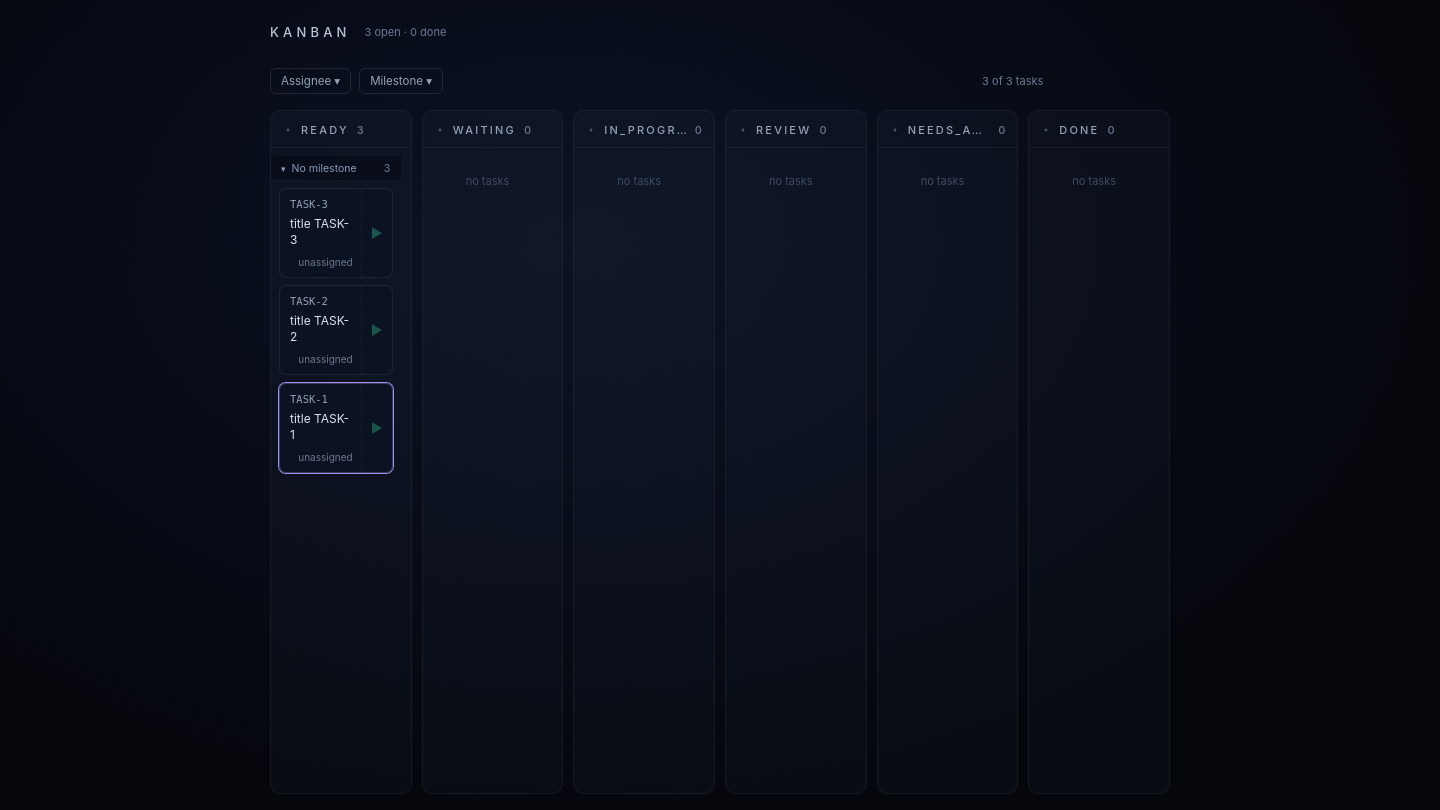
Test case: opening a task's modal › draws the held record's notes at once when it is past the fresh window, then reads it again
Click the button "TASK-1 title TASK-1 unassigned ▶".
click(336, 428)  # box [279,383,393,473]
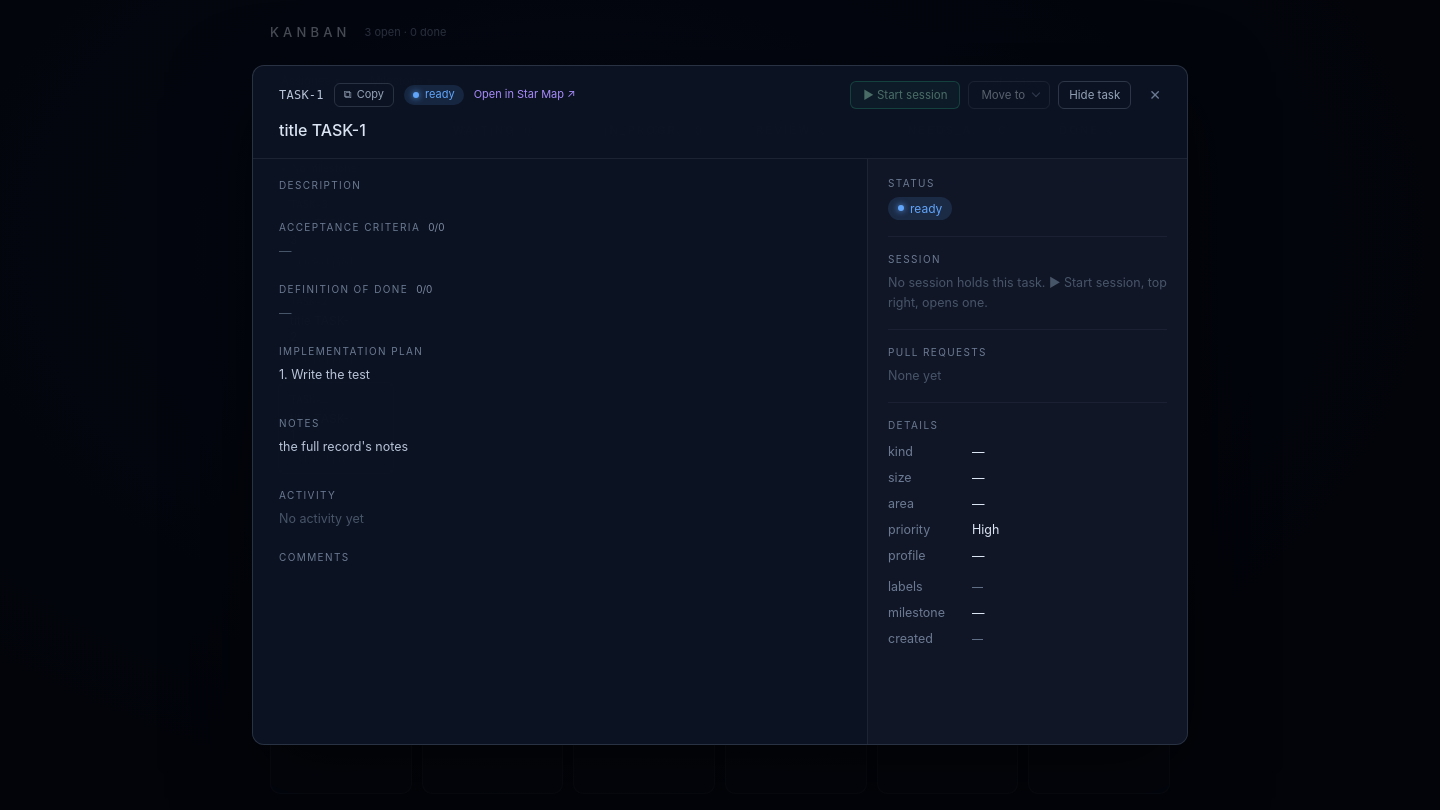
Check: the dialog shows "the full record's notes", box [279,439,408,454]
